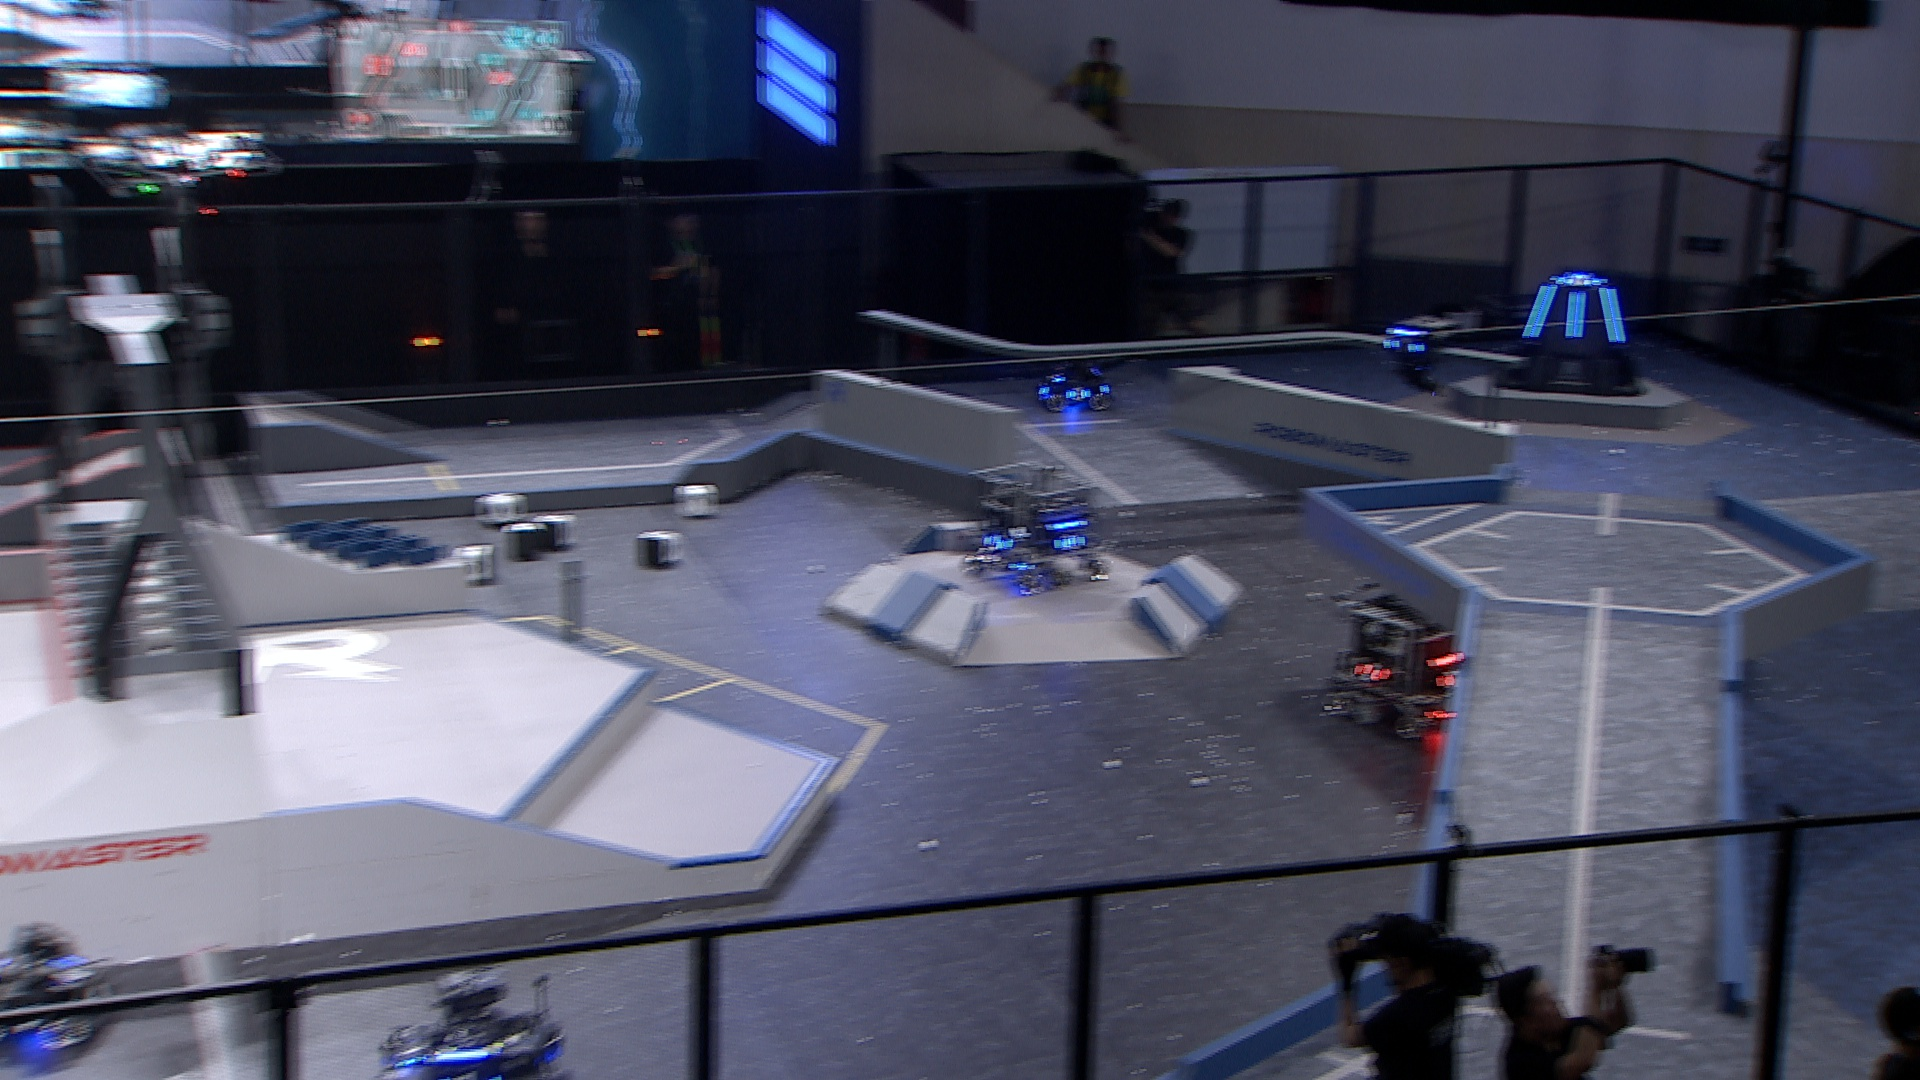armor: (1515, 284, 1557, 342), (1600, 286, 1629, 347), (1565, 291, 1589, 342), (1353, 659, 1390, 684), (392, 1040, 425, 1068), (1429, 669, 1462, 692), (1385, 338, 1424, 356), (1557, 273, 1602, 287), (978, 534, 1011, 553), (1058, 531, 1087, 550), (1064, 386, 1091, 404), (1046, 372, 1065, 385)
base: (1487, 262, 1648, 396)
car: (1323, 579, 1487, 742), (368, 963, 572, 1080), (964, 462, 1117, 595), (1036, 349, 1116, 414)
watcher: (1375, 313, 1460, 400)
